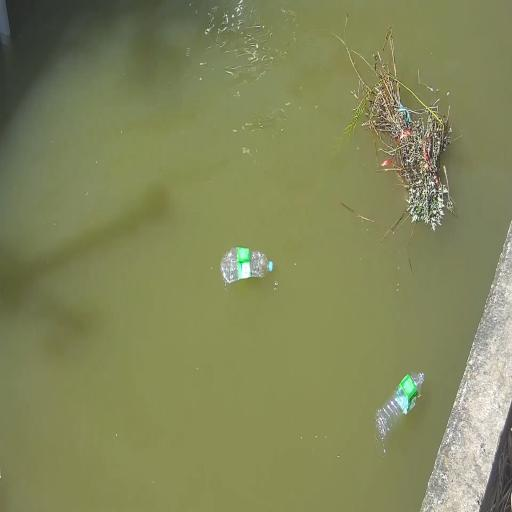plastic: (376, 373, 424, 440), (221, 247, 273, 284), (268, 261, 273, 272)
twig: (333, 27, 455, 231)
